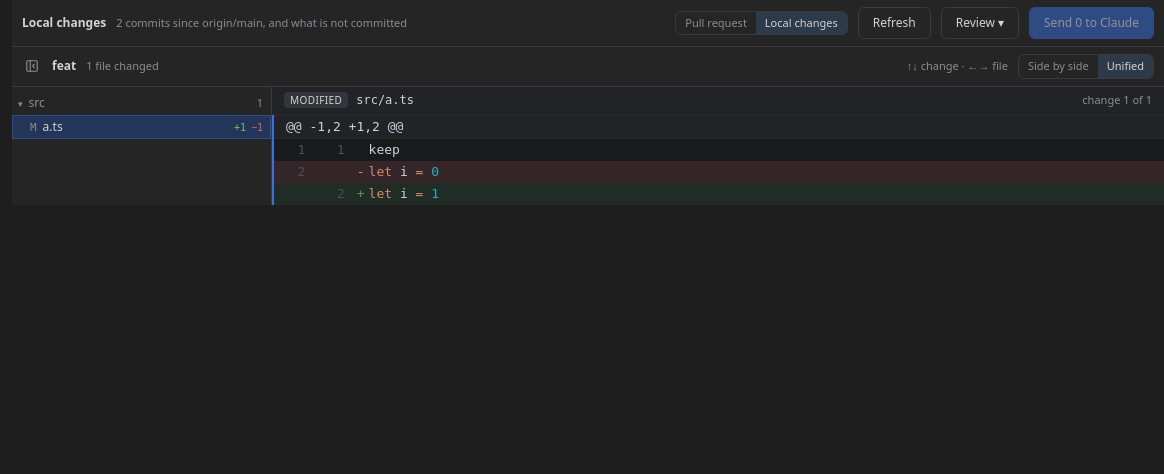
Test: ReviewView › opens on the local changes when the branch has no pull request, and offers to open one
Expected: the button "Local changes" is shown, [756,12,847,34]
Click the button "Pull request": (716, 23) [676,12,756,34]
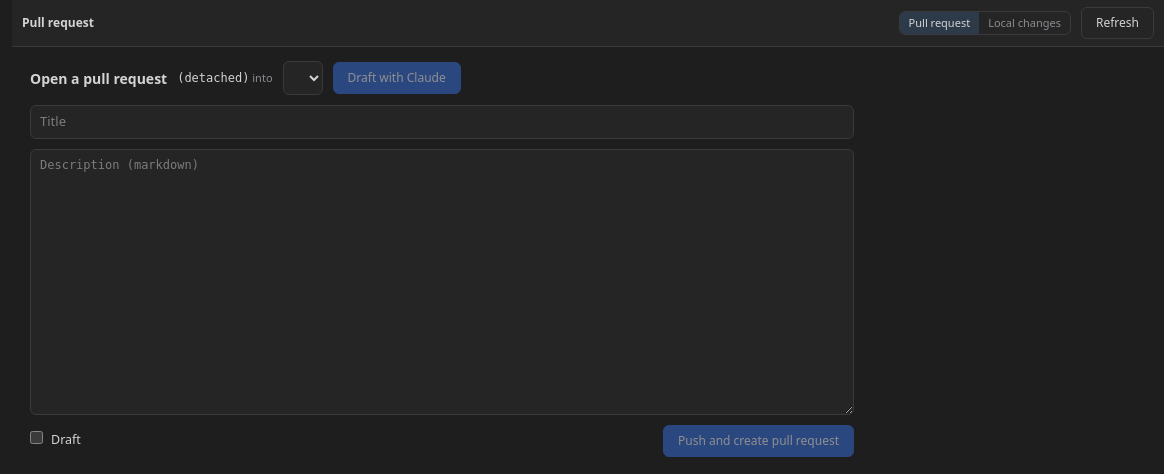
Now the heading "Open a pull request" is shown, box [30,68,167,88]
